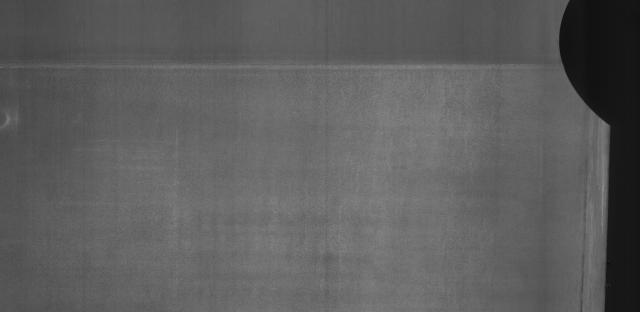welding_line: (0, 55, 578, 79)
